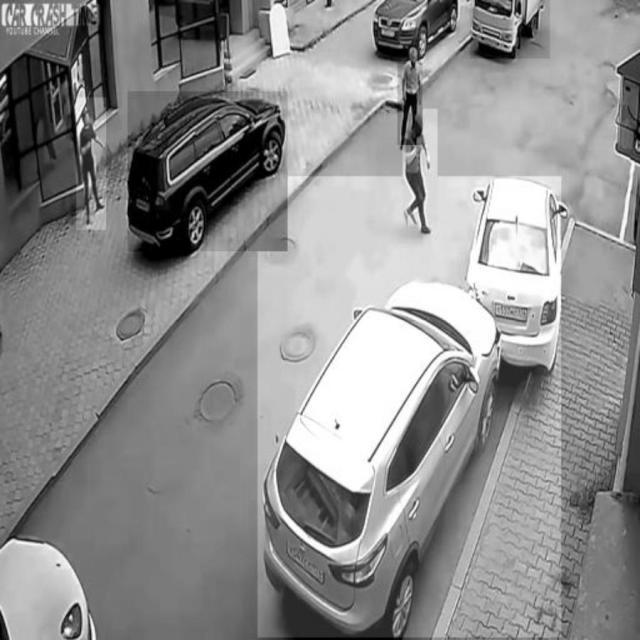accident: (258, 177, 562, 638)
person: (403, 109, 438, 229), (76, 97, 106, 229), (398, 39, 423, 145)
vehicle: (128, 92, 288, 252), (372, 1, 460, 63), (470, 0, 549, 58)
